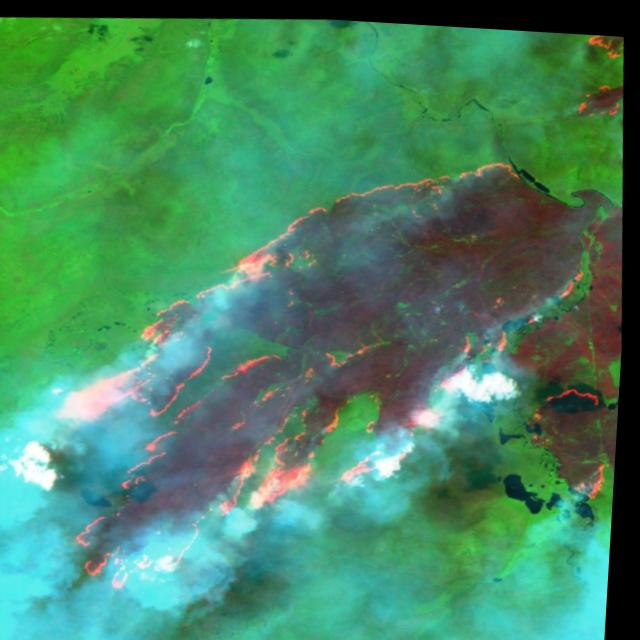fire: (23, 125, 634, 621), (557, 26, 628, 122)
